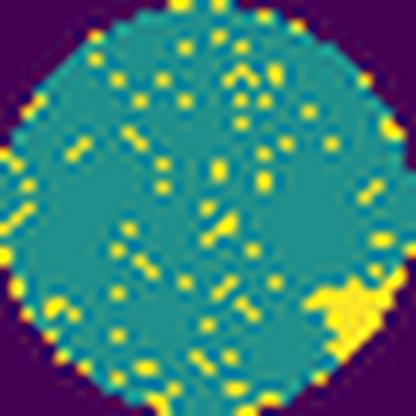Edge-Loc: (302, 263, 416, 361)
